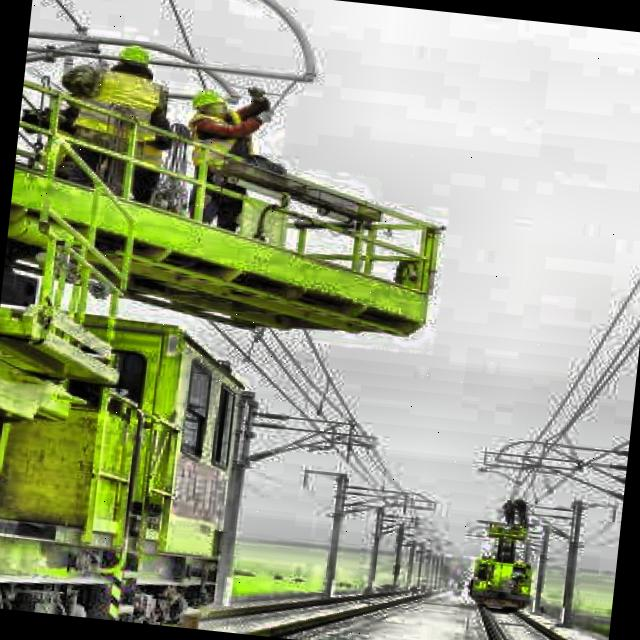helmet: (105, 40, 160, 86), (189, 82, 235, 125)
